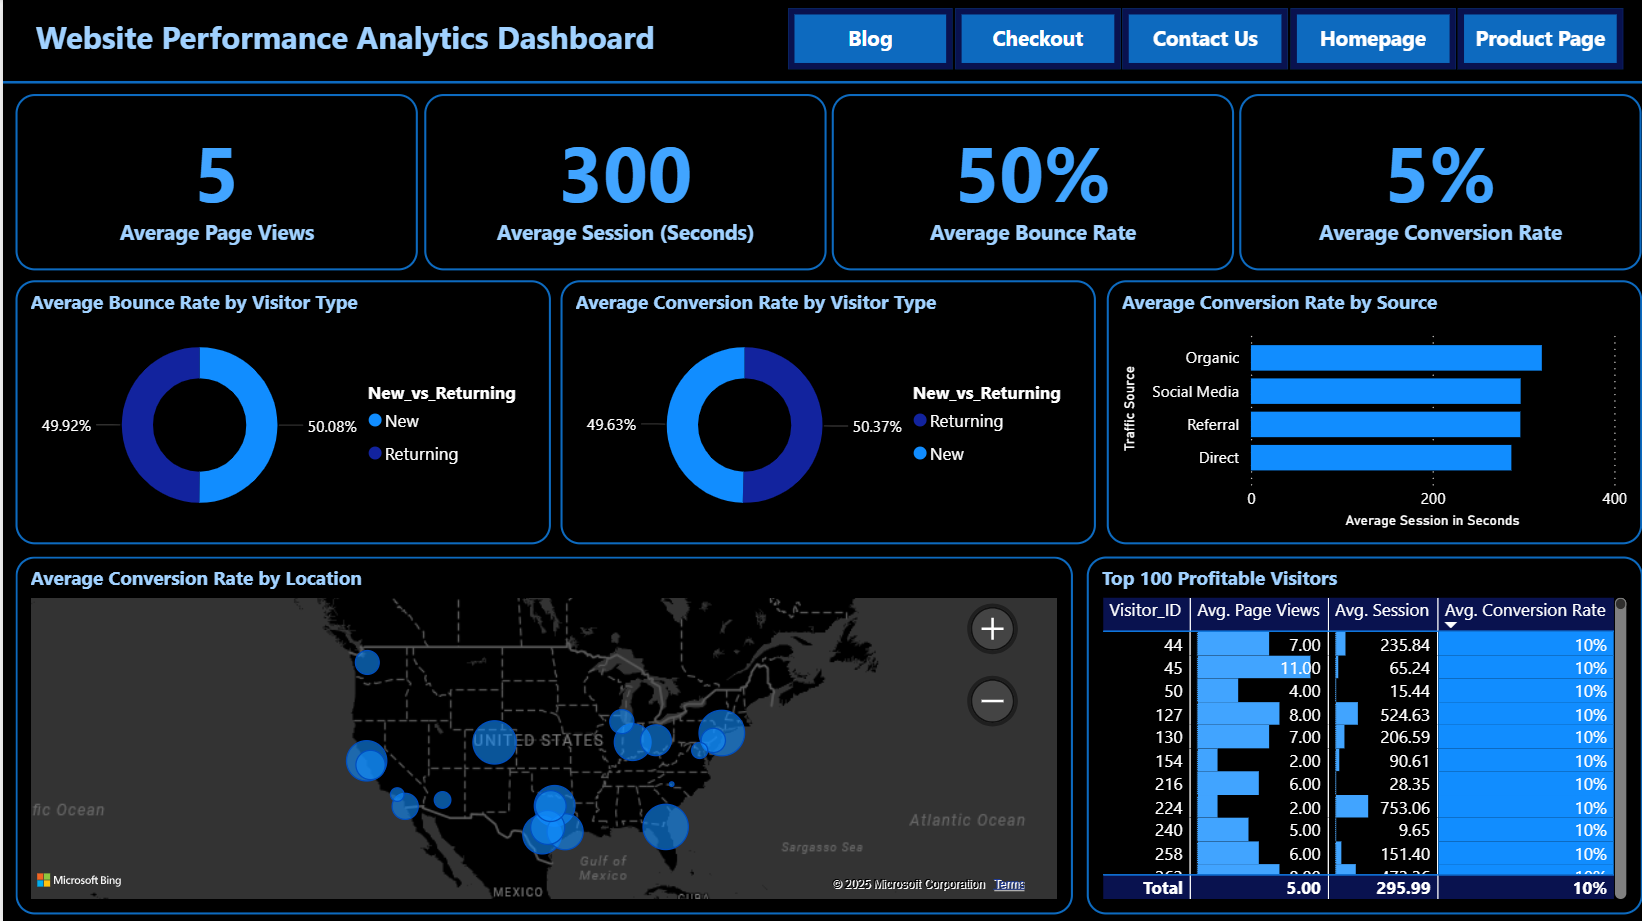

Layout of this report page (visuals, bound fields, positions):
{"tool":"powerbi","page":{"name":"Page 1","canvas":[1280,720],"ordinal":0},"visuals":[{"type":"shape","box":[0,0,1280,129.1],"z":0,"group":"g1"},{"type":"textbox","box":[20,8.8,497.5,52.5],"z":1000,"group":"g1"},{"type":"donutChart","title":"Average Bounce Rate by Visitor Type","fields":{"Category":["website_performance_analytics.New_vs_Returning"],"Y":["Avg(website_performance_analytics.Bounce_Rate)"]},"box":[10,217.8,415.6,204.4],"z":2000,"group":"g1"},{"type":"card","title":"Total ","fields":{"Values":["Avg(website_performance_analytics.Page_Views)"]},"box":[10,73.3,312.2,136.7],"z":3000,"group":"g1"},{"type":"card","title":"Total ","fields":{"Values":["Avg(website_performance_analytics.Average_Session_Duration)"]},"box":[326.3,73.3,312.2,136.7],"z":4000,"group":"g1"},{"type":"card","title":"Total ","fields":{"Values":["Avg(website_performance_analytics.Bounce_Rate)"]},"box":[642.6,73.3,312.2,136.7],"z":5000,"group":"g1"},{"type":"card","title":"Total ","fields":{"Values":["Avg(website_performance_analytics.Conversion_Rate)"]},"box":[958.9,73.3,312.2,136.7],"z":6000,"group":"g1"},{"type":"donutChart","title":"Average Conversion Rate by Visitor Type","fields":{"Category":["website_performance_analytics.New_vs_Returning"],"Y":["Avg(website_performance_analytics.Conversion_Rate)"]},"box":[432.8,217.8,415.6,204.4],"z":7000,"group":"g1"},{"type":"clusteredBarChart","title":"Average Conversion Rate by Source","fields":{"Y":["Avg(website_performance_analytics.Average_Session_Duration)"],"Category":["website_performance_analytics.Traffic_Source"]},"box":[855.6,217.8,415.6,204.4],"z":8000,"group":"g1"},{"type":"map","title":"Average Conversion Rate by Location","fields":{"Category":["website_performance_analytics.Location"],"Size":["Avg(website_performance_analytics.Conversion_Rate)"]},"box":[10,432.2,820,277.8],"z":9000,"group":"g1"},{"type":"tableEx","title":"Top 100 Profitable Visitors","fields":{"Values":["website_performance_analytics.Visitor_ID","Avg(website_performance_analytics.Page_Views)","Avg(website_performance_analytics.Session_Duration)","Avg(website_performance_analytics.Conversion_Rate)"]},"box":[840,432.2,431.1,277.8],"z":10000,"group":"g1"},{"type":"slicer","title":"Filter by Visitors'' Exit Page","fields":{"Values":["website_performance_analytics.Exit_Pages"]},"box":[582.5,0,697.5,61.2],"z":11000,"group":"g1"},{"type":"group","id":"g1","title":"Group 1","box":[0,0,1280,710],"z":11001}]}

Visuals, with their boxes in screenshot pixels (x1, y1, x2, y2), scaled from the page's 1280x720 canvas onto the 1642x921 screenshot:
shape: 0, 0, 1641, 165
textbox: 26, 11, 664, 78
"Average Bounce Rate by Visitor Type" donutChart: 13, 279, 546, 540
"Total " card: 13, 94, 413, 269
"Total " card: 419, 94, 819, 269
"Total " card: 824, 94, 1225, 269
"Total " card: 1230, 94, 1631, 269
"Average Conversion Rate by Visitor Type" donutChart: 555, 279, 1088, 540
"Average Conversion Rate by Source" clusteredBarChart: 1098, 279, 1631, 540
"Average Conversion Rate by Location" map: 13, 553, 1065, 908
"Top 100 Profitable Visitors" tableEx: 1078, 553, 1631, 908
"Filter by Visitors'' Exit Page" slicer: 747, 0, 1641, 78
"Group 1" group: 0, 0, 1641, 908
